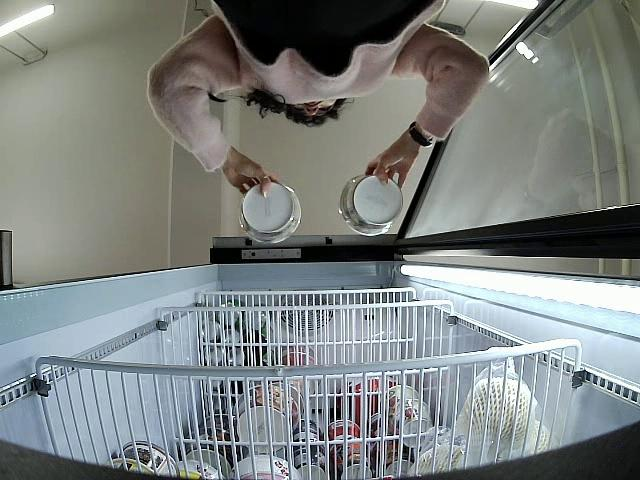00_hand: (224, 151, 280, 200), (364, 145, 418, 191)
03_chapagetti_L: (239, 179, 303, 248), (337, 174, 405, 237)
